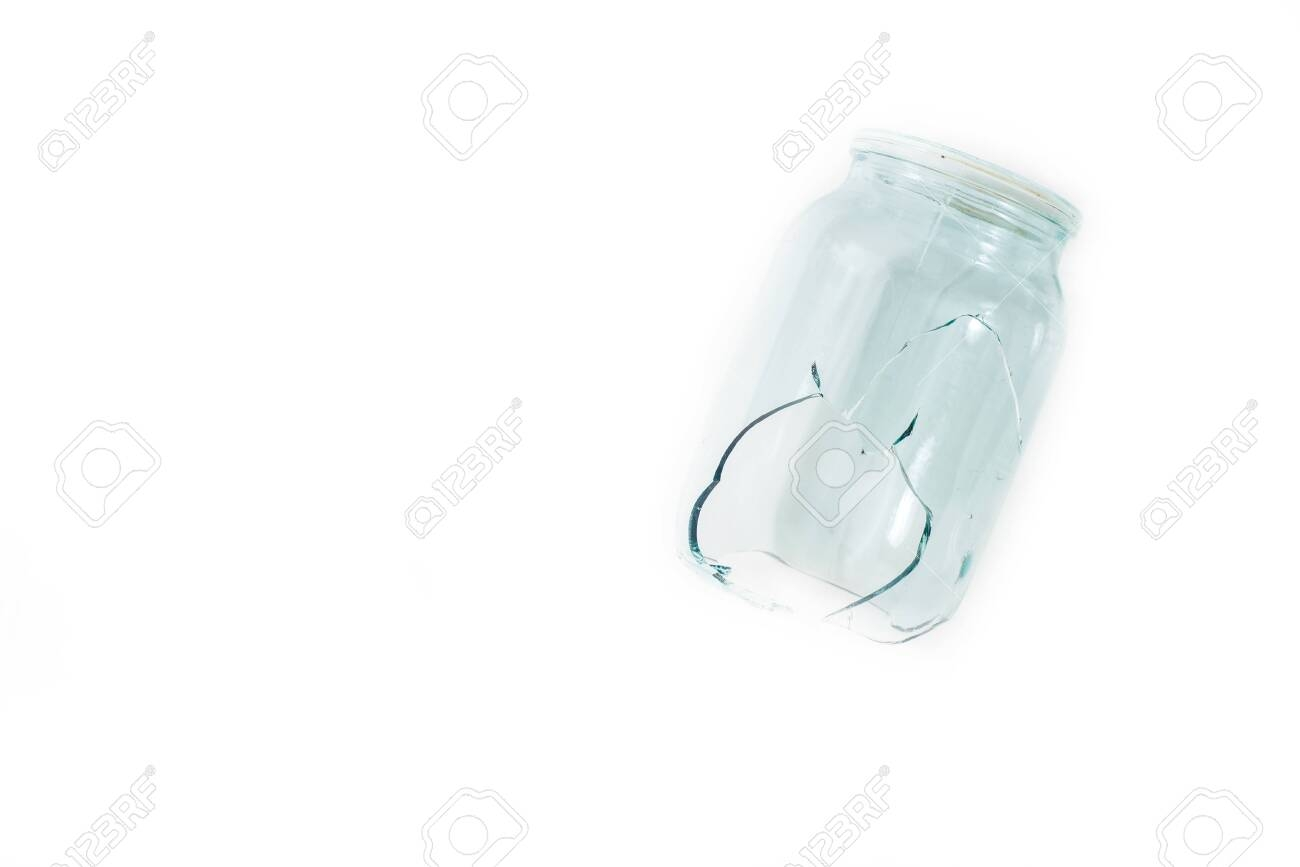glass: (657, 113, 1091, 657)
